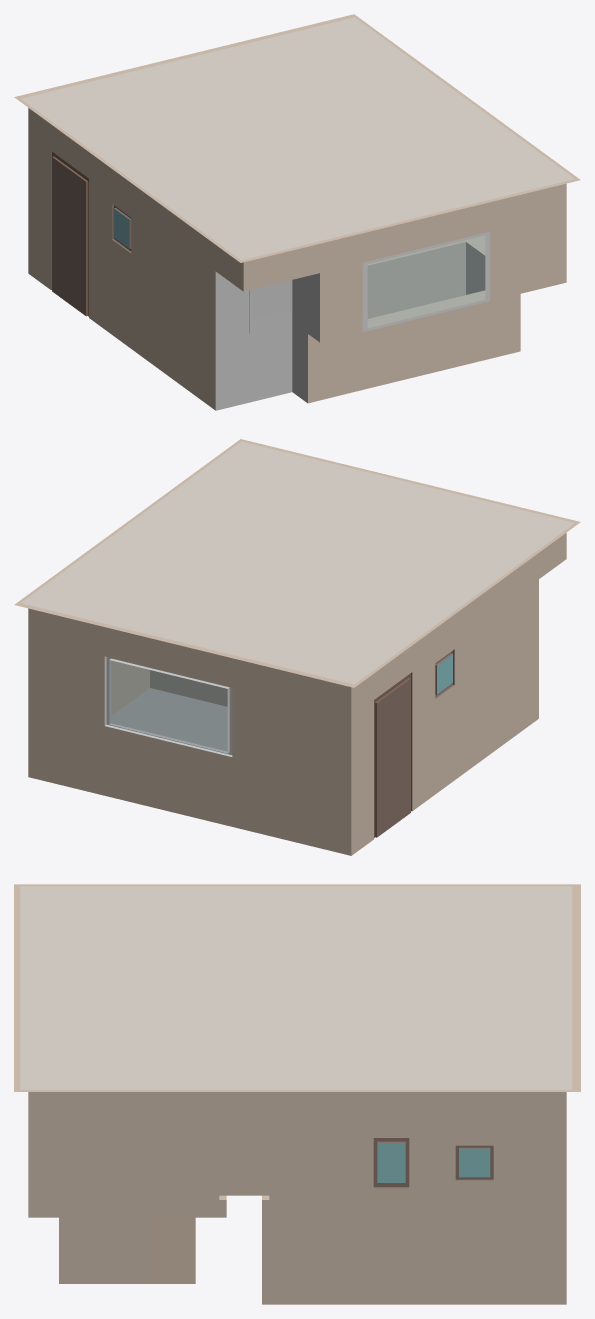
Rendered from kitchen_01_ah.fbx.
3 renders of one model, top to bottom at view 1: azimuth 30°, elevation 25°; view 2: azimuth 150°, elevation 25°; view 3: azimuth 270°, elevation 25°, orthographic. The views are drawn at different scales.
Visible parts, largest first — view 1: kitchen_01, pPlane1; view 2: kitchen_01, pPlane1; view 3: pPlane1, kitchen_01.
Part boxes in pixels (left/top/right/bottom): kitchen_01: left=14, top=14, right=580, bottom=410; pPlane1: left=21, top=17, right=574, bottom=260; kitchen_01: left=14, top=439, right=580, bottom=855; pPlane1: left=21, top=441, right=574, bottom=684; pPlane1: left=20, top=886, right=572, bottom=1089; kitchen_01: left=14, top=884, right=580, bottom=1304.
Size of the model in its own units: 32.81 by 16.06 by 37.86.
